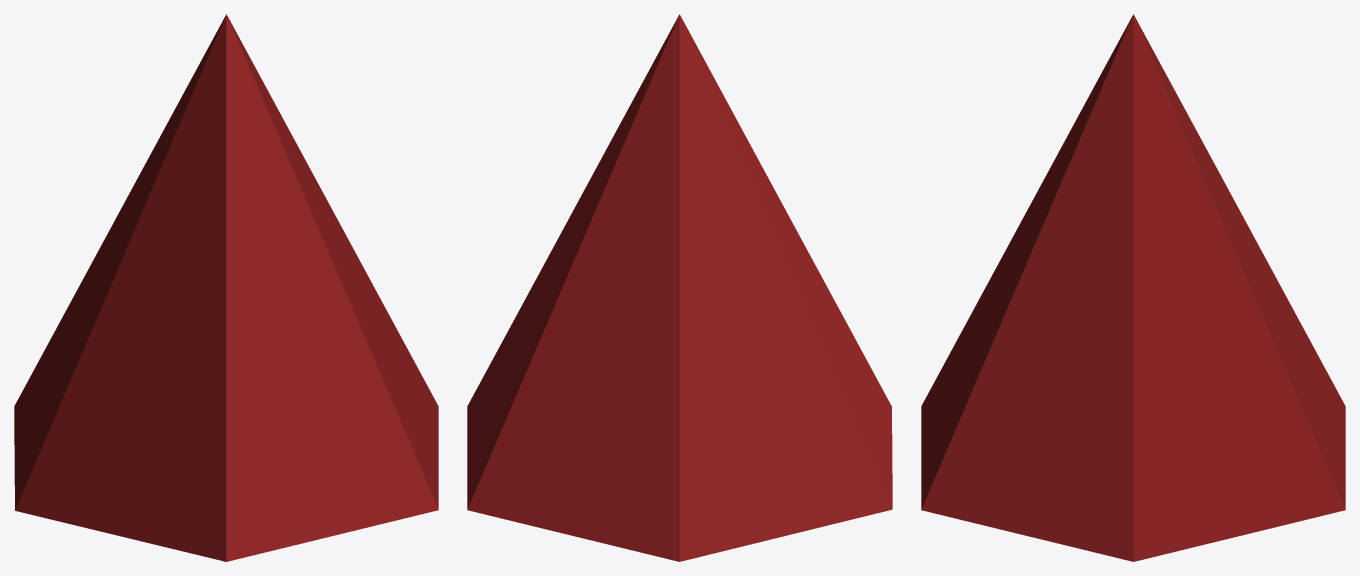
The model's file is MountainHex.FBX.
3 views of the same model, side by side, from view 1: azimuth 30°, elevation 25°; view 2: azimuth 150°, elevation 25°; view 3: azimuth 270°, elevation 25° (orthographic).
Visible parts, largest first — view 1: Mountain; view 2: Mountain; view 3: Mountain.
Part boxes in pixels (box(x1,y1,x2,y2)): Mountain: box(14, 14, 438, 561); Mountain: box(467, 14, 892, 561); Mountain: box(921, 14, 1345, 561).
Size of the model in its own units: 2000 by 1732 by 2000.
